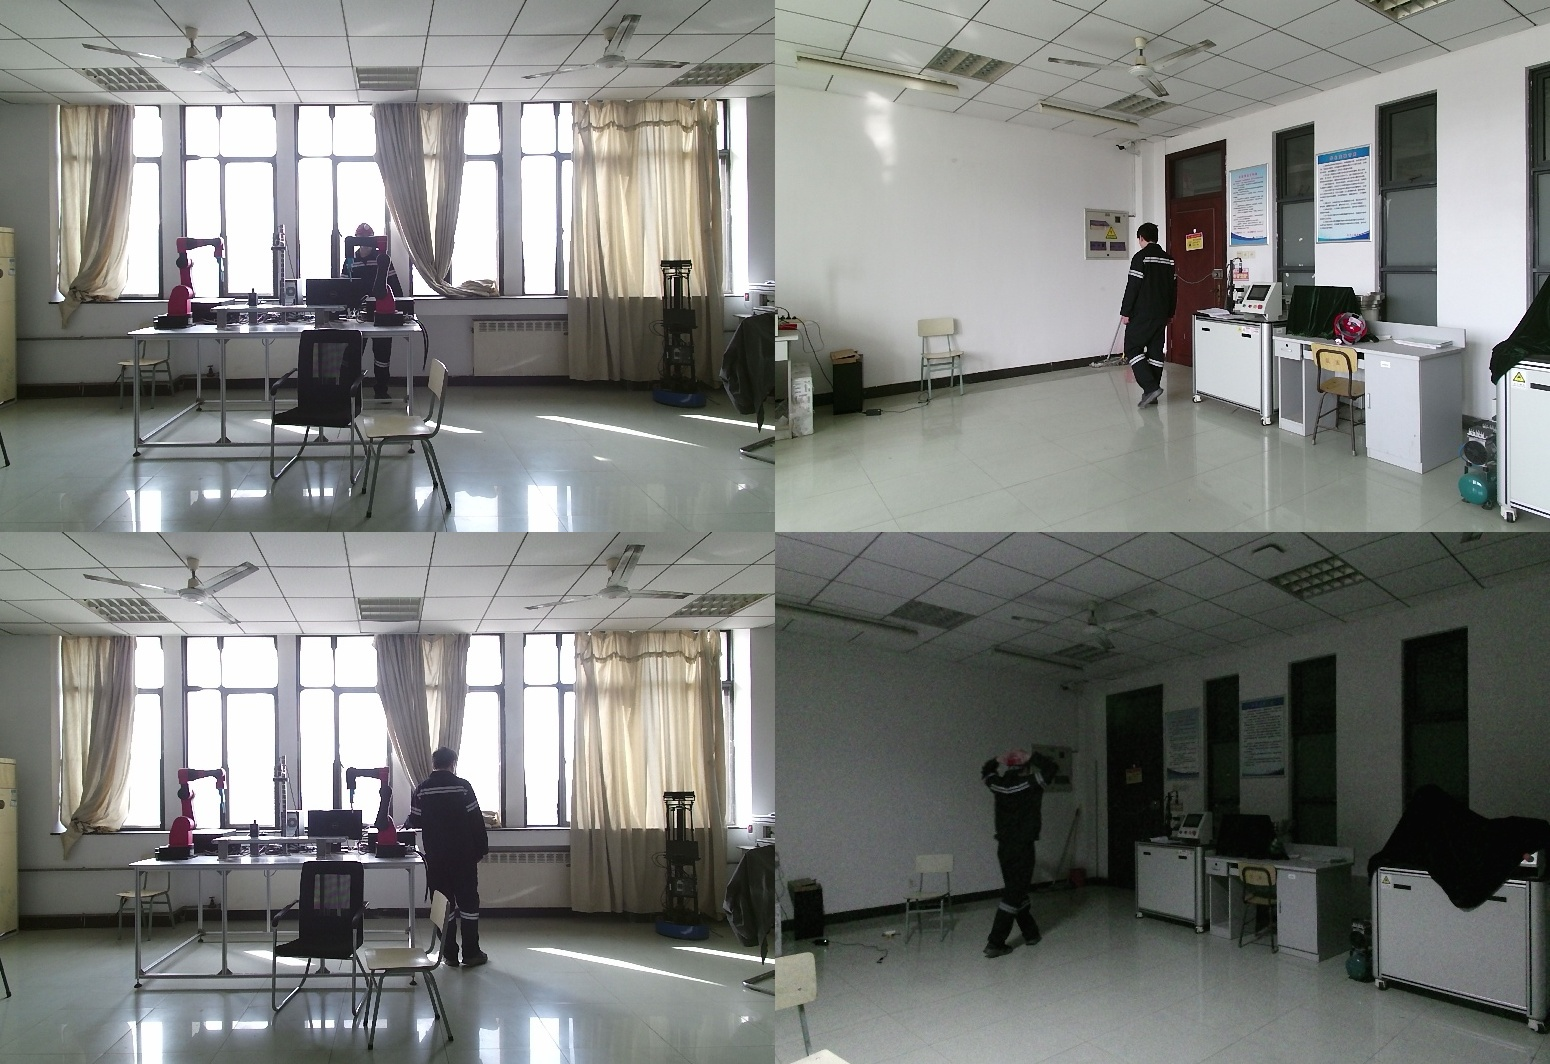person: (403, 746, 495, 969), (970, 737, 1057, 972), (1120, 224, 1183, 414), (343, 224, 403, 398)
